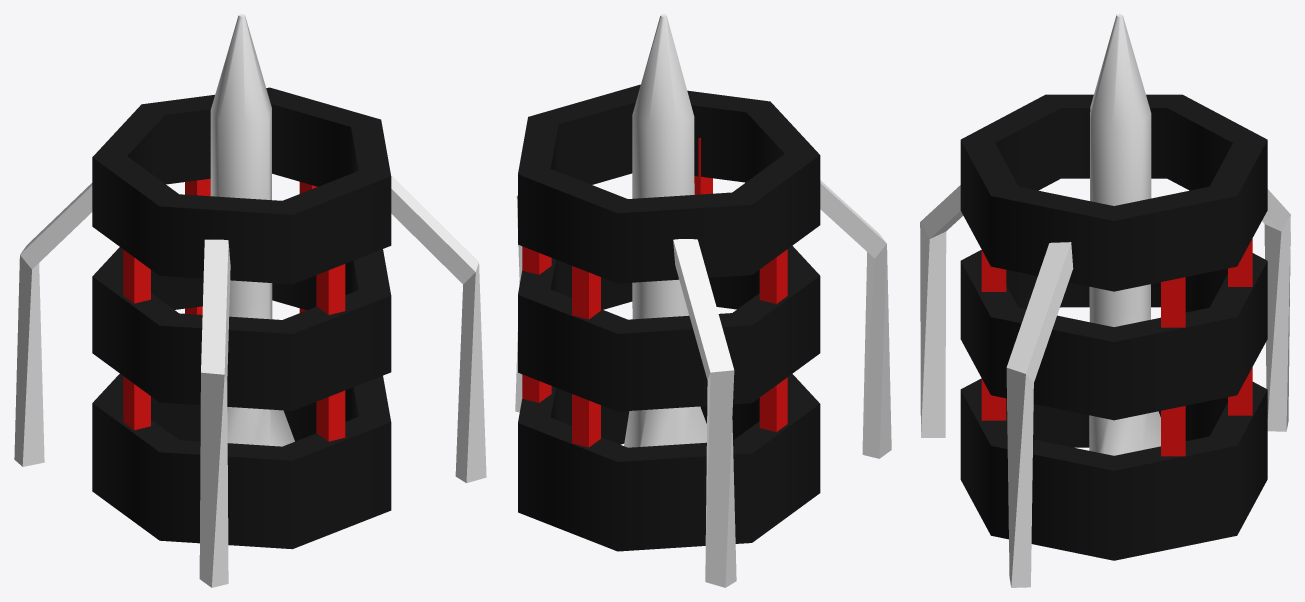
The model's file is Silo.DAE.
3 renders of one model, left to right at view 1: azimuth 30°, elevation 25°; view 2: azimuth 150°, elevation 25°; view 3: azimuth 270°, elevation 25°, orthographic.
Parts seen in each view (by area): view 1: Cylinder003, Cylinder001, Box005, Box004, Box006, Box003, Box001; view 2: Cylinder003, Cylinder001, Box006, Box005, Box007, Box001, Box002, Box004; view 3: Cylinder003, Cylinder001, Box004, Box005, Box006, Box002, Box007, Box003.
Part boxes in pixels (box(x1,y1,x2,y2)): Cylinder003: box(92, 87, 391, 549); Cylinder001: box(210, 14, 294, 446); Box005: box(199, 239, 230, 587); Box004: box(391, 175, 486, 483); Box006: box(14, 183, 92, 466); Box003: box(316, 264, 345, 441); Box001: box(123, 249, 150, 430); Cylinder003: box(518, 84, 820, 551); Cylinder001: box(624, 14, 706, 447); Box006: box(673, 239, 736, 587); Box005: box(820, 180, 891, 458); Box007: box(572, 266, 600, 447); Box001: box(759, 249, 787, 431); Box002: box(522, 246, 551, 402); Box004: box(515, 195, 522, 412); Cylinder003: box(960, 94, 1267, 560); Cylinder001: box(1089, 14, 1160, 455); Box004: box(1006, 242, 1073, 587); Box005: box(920, 185, 963, 437); Box006: box(1262, 189, 1290, 431); Box002: box(1161, 277, 1185, 456); Box007: box(1228, 238, 1252, 415); Box003: box(981, 250, 1006, 420).
Bounding box in the file's own units: 54.02 × 74.49 × 50.57.
